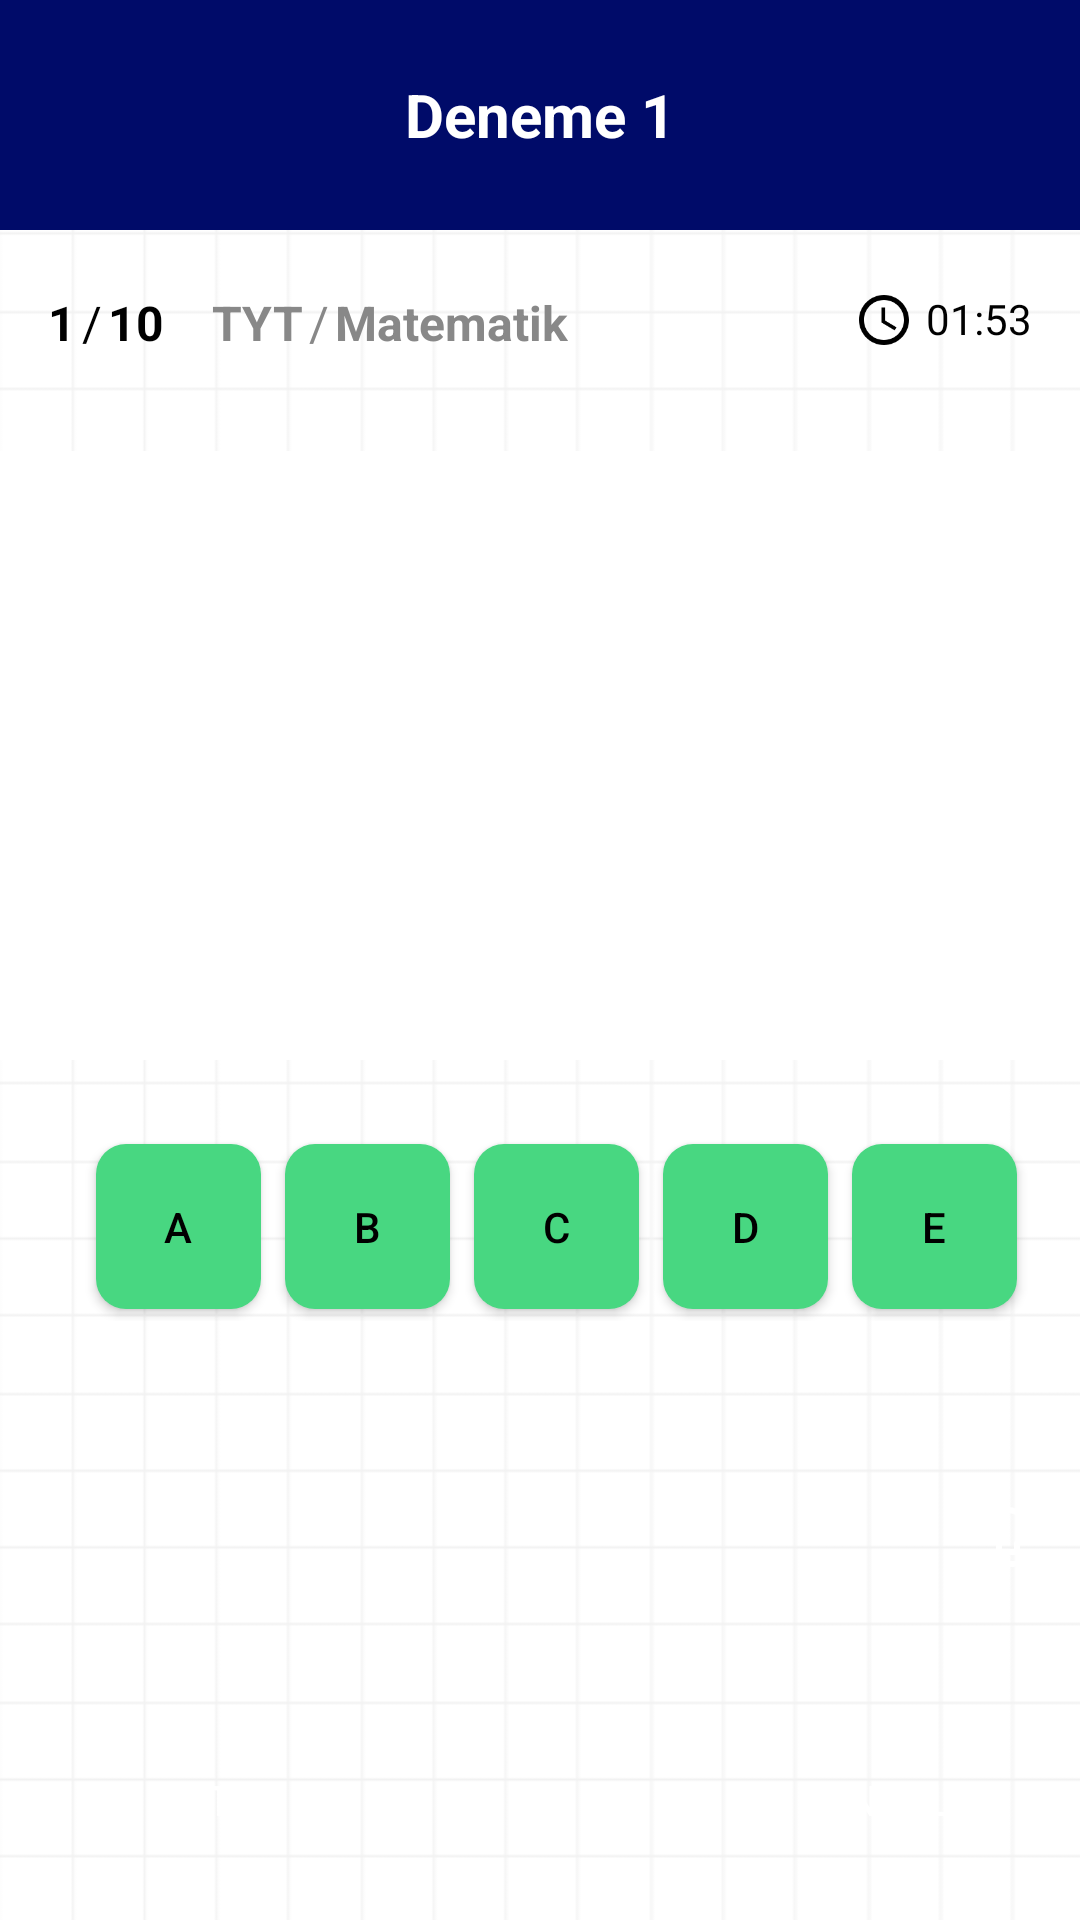

Locate icon controls on the screen. Image size 1080 x 1920, boxes as box=[x1, y1, x2, y2].
timer: box=[859, 295, 909, 345]
